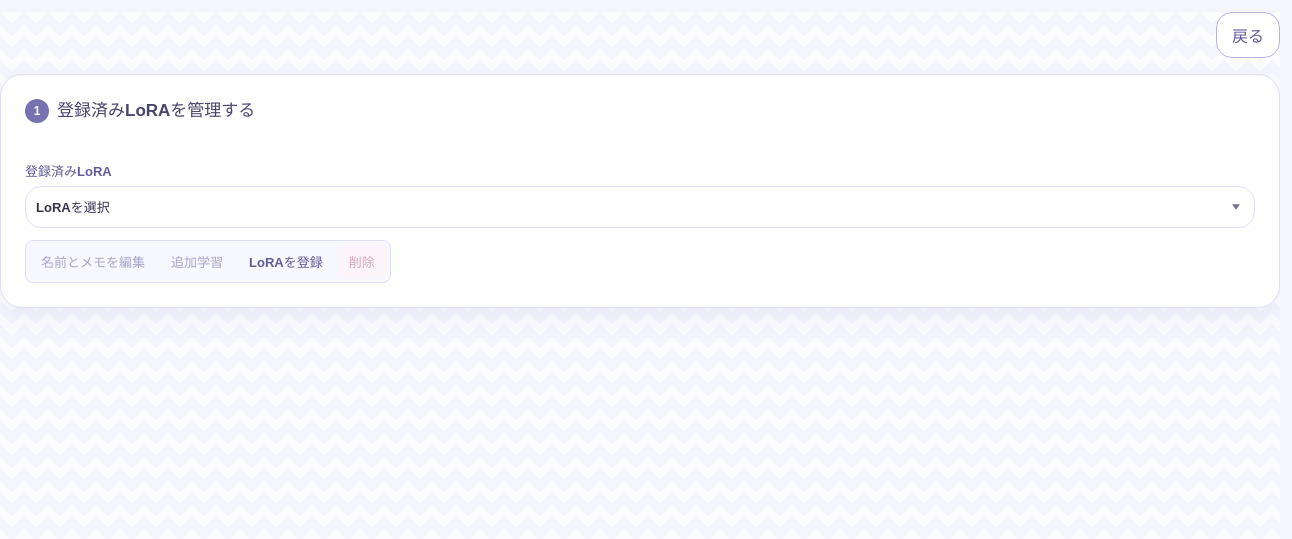
Test: cancels on Escape and requires a fresh pair of clicks
The width and height of the screenshot is (1292, 539).
Select "穏やかな声" in the dropdown labelled "登録済みLoRA" at (640, 207), box [25, 186, 1255, 228]
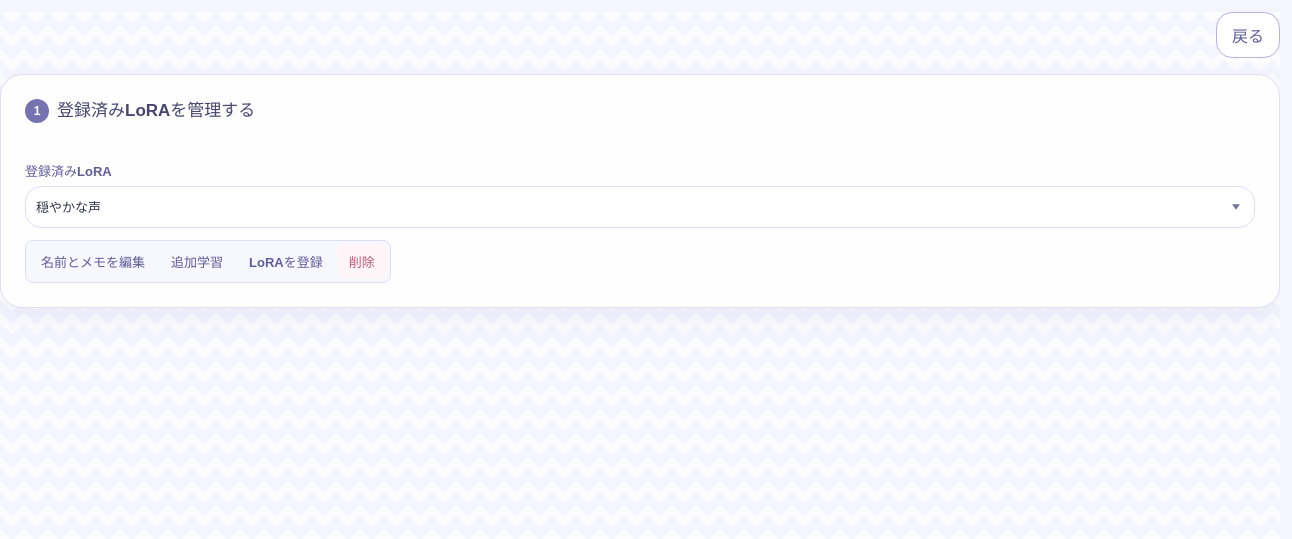
Click the button "削除" at (362, 262), box [337, 244, 387, 279]
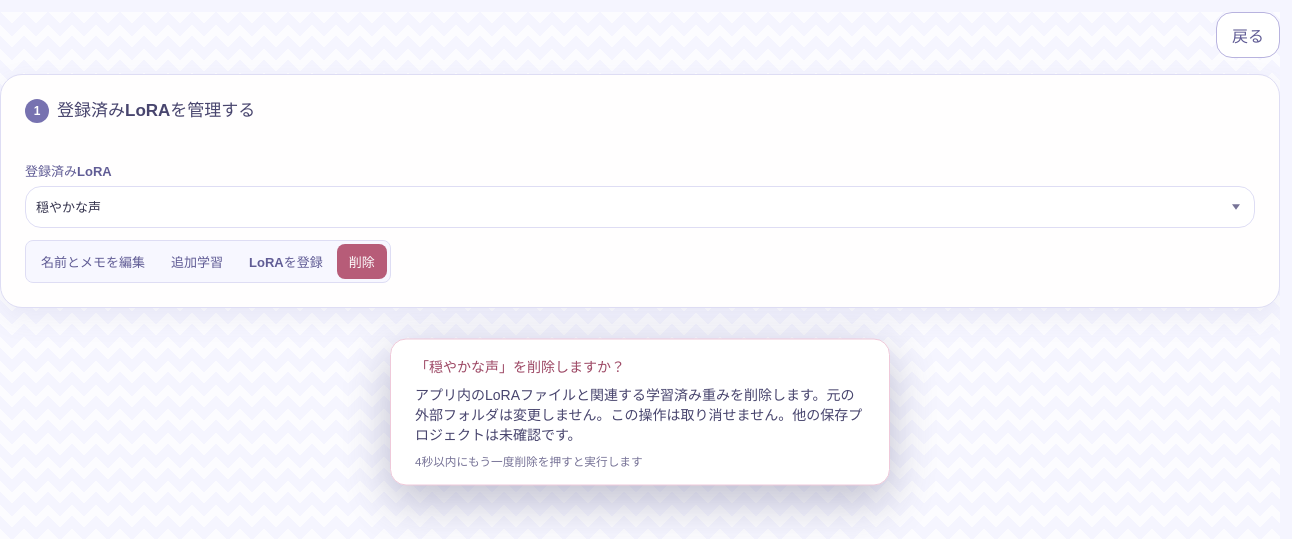
Press Escape
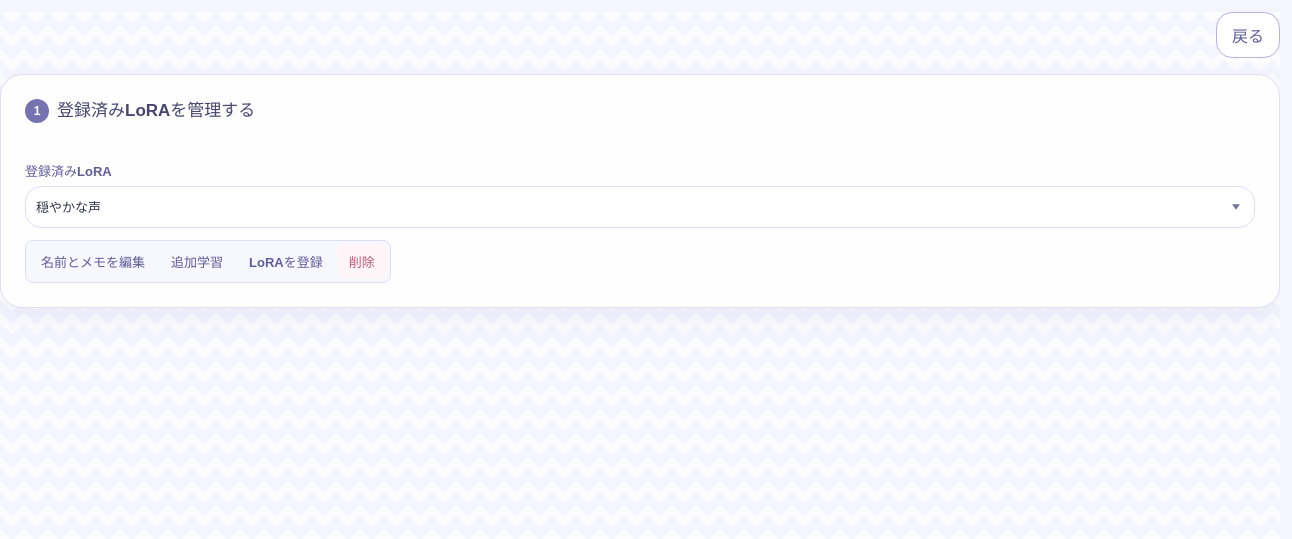
Now the message is gone
Click the button "削除" at (362, 262), box [337, 244, 387, 279]
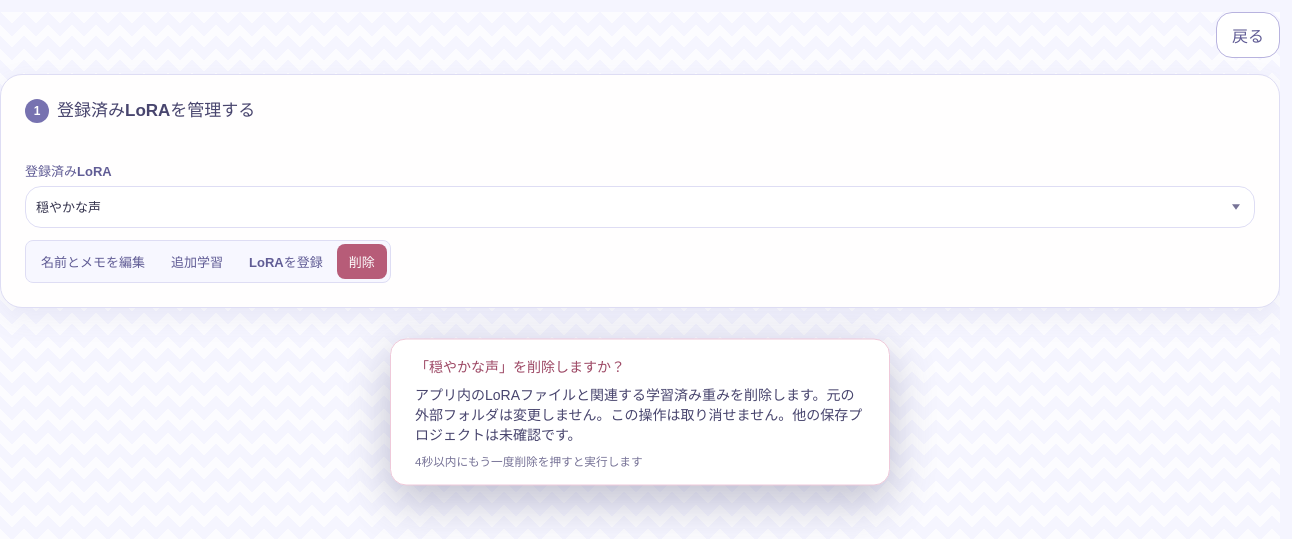
Click the button "削除" at (362, 262), box [337, 244, 387, 279]
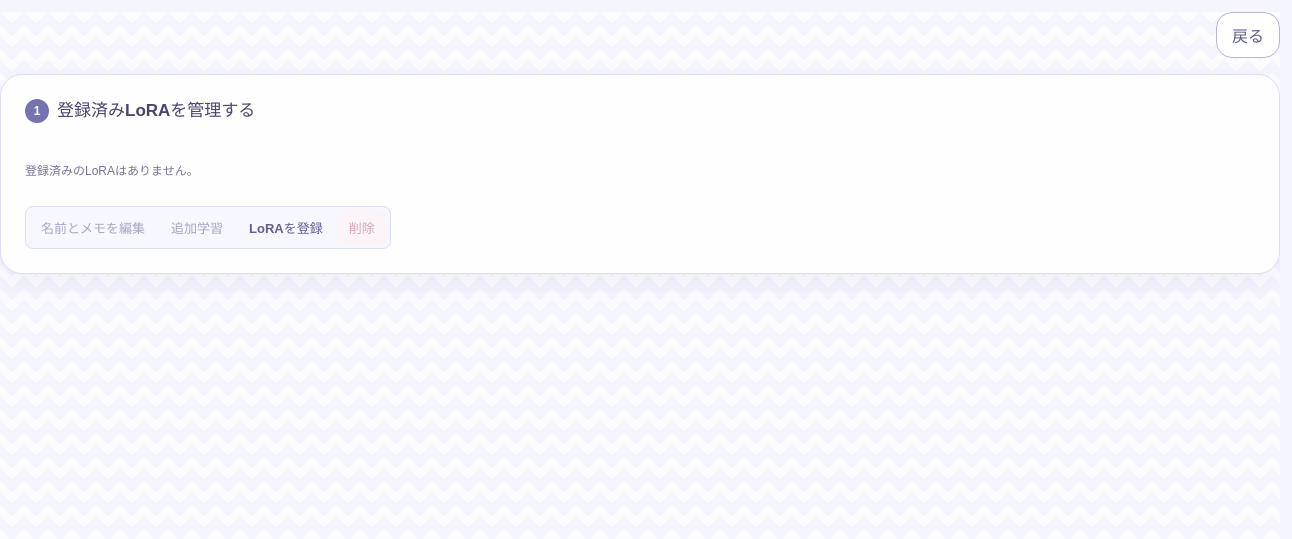
Now the text "登録済みのLoRAはありません。" is shown, box [25, 164, 199, 178]
